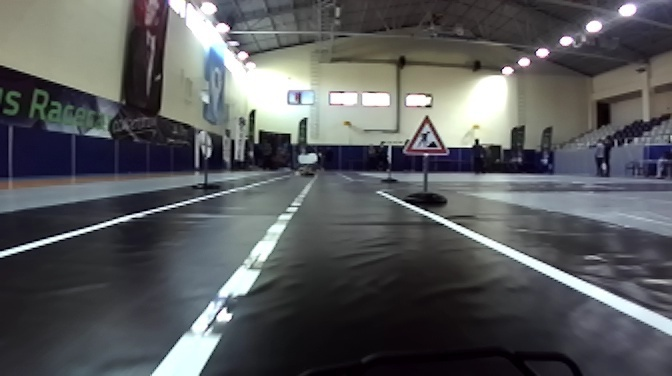yol_yapimi: (400, 111, 457, 154)
